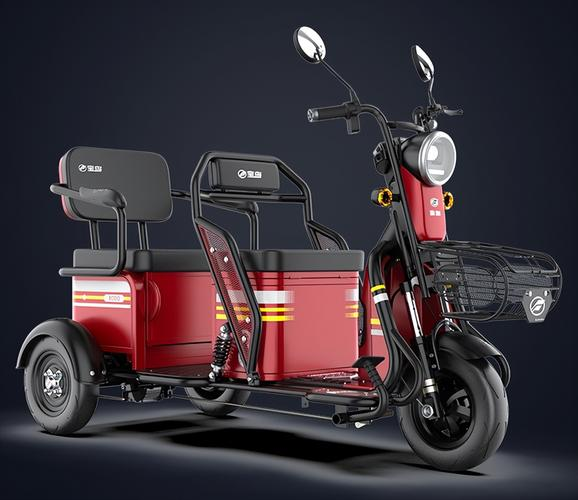empty: (53, 17, 570, 479)
